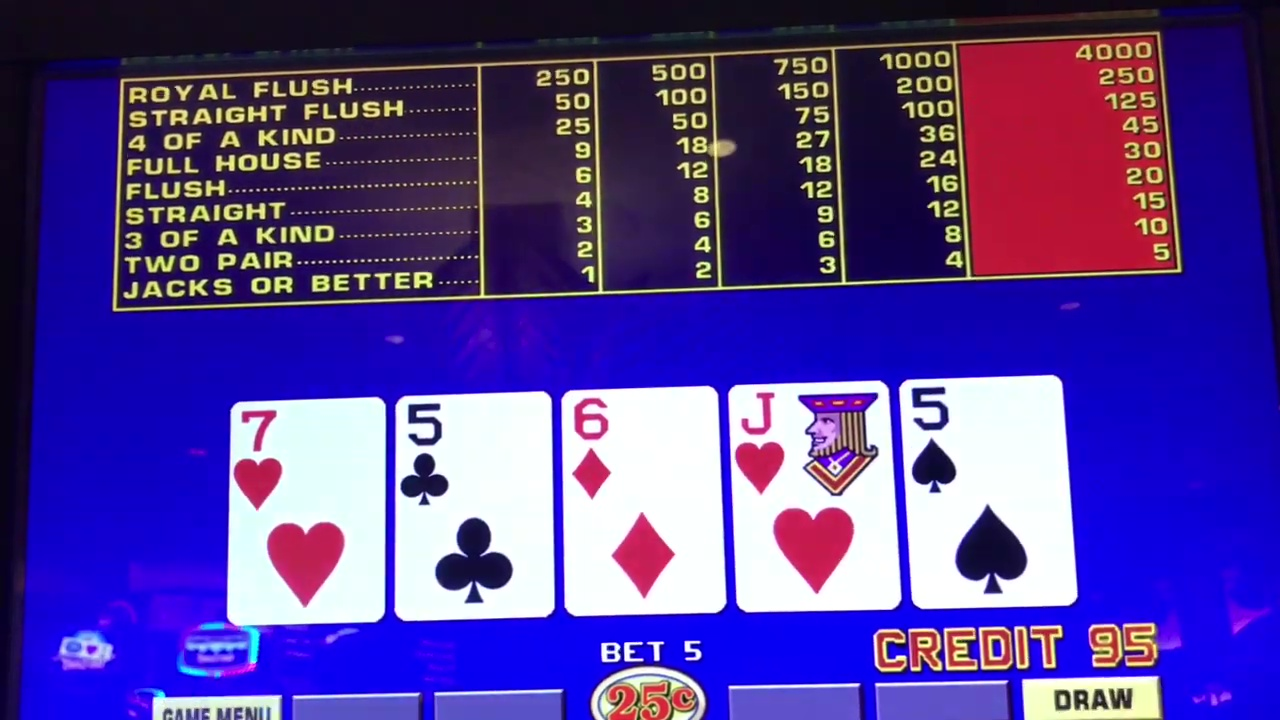C5: (399, 397, 550, 616)
D6: (566, 393, 717, 611)
H7: (234, 402, 383, 621)
HJ: (739, 383, 882, 606)
S5: (910, 386, 1059, 603)
